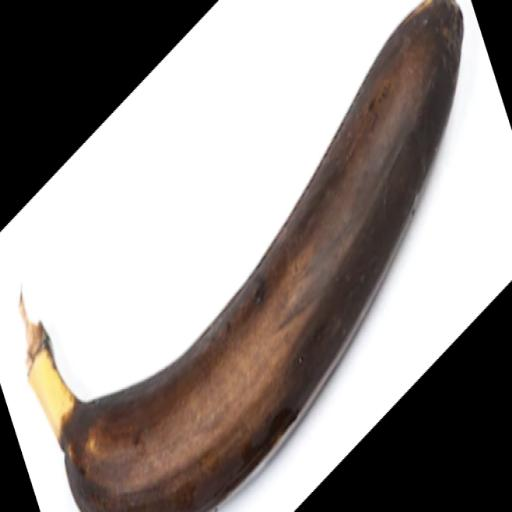banana-overripe: (0, 4, 475, 512)
